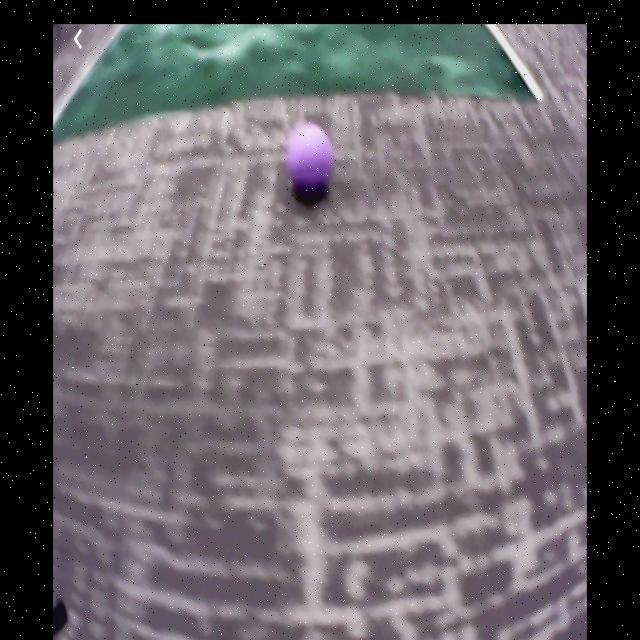ball: (288, 126, 334, 189)
